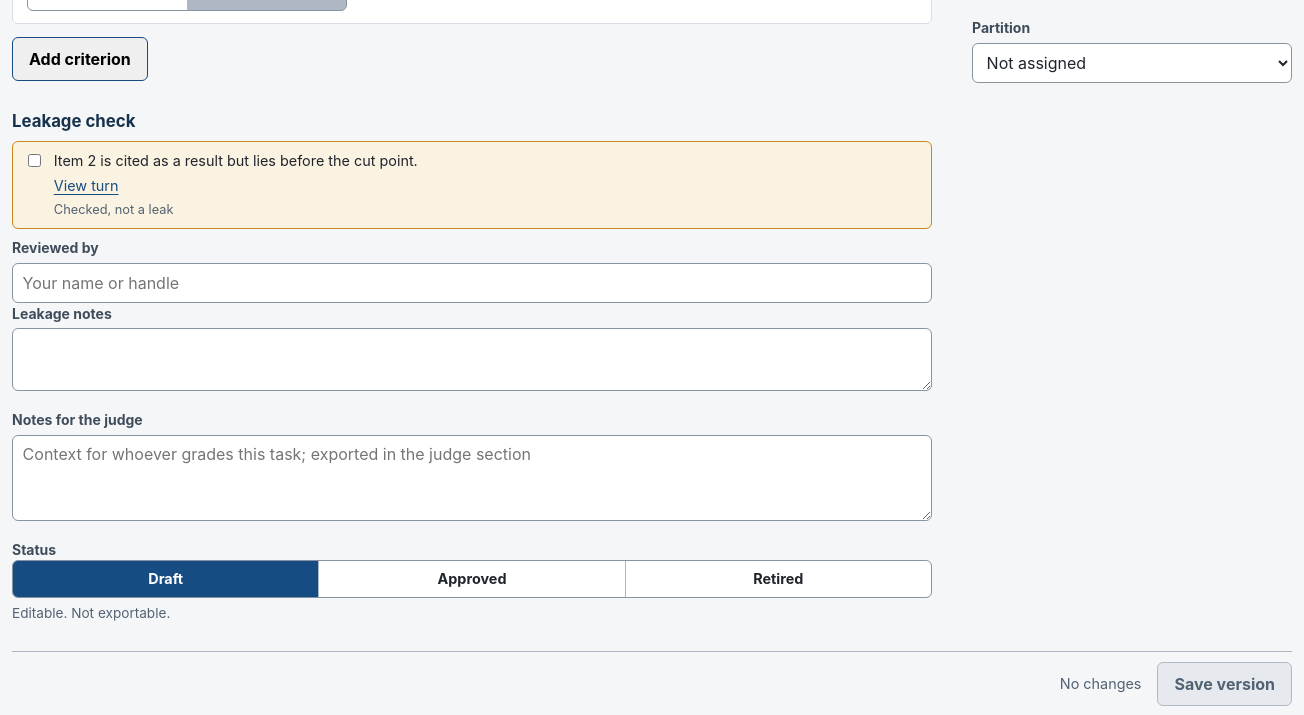
task editor › blocks approval until every flag is accepted and a reviewer is named
(page scrolled)
Click the radio button labelled "Approved" at (472, 579), box [319,561,625,597]
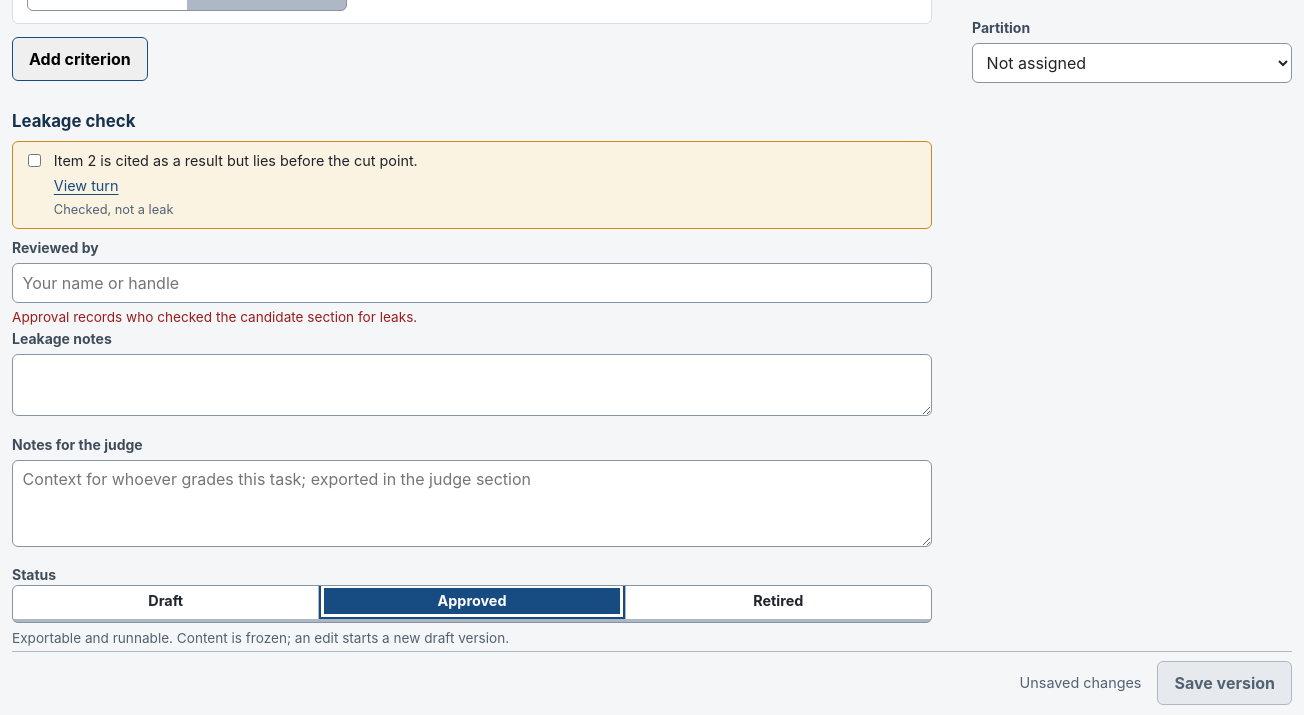
Expected: the button "Save version" is disabled, [1158,661,1292,705]
Result: the text "Approval records who checked the candidate section for leaks." is shown at [12,310,417,326]
Click the checkbox labelled "Item 2 is cited as a result" at (35, 160), box [28,154,41,166]
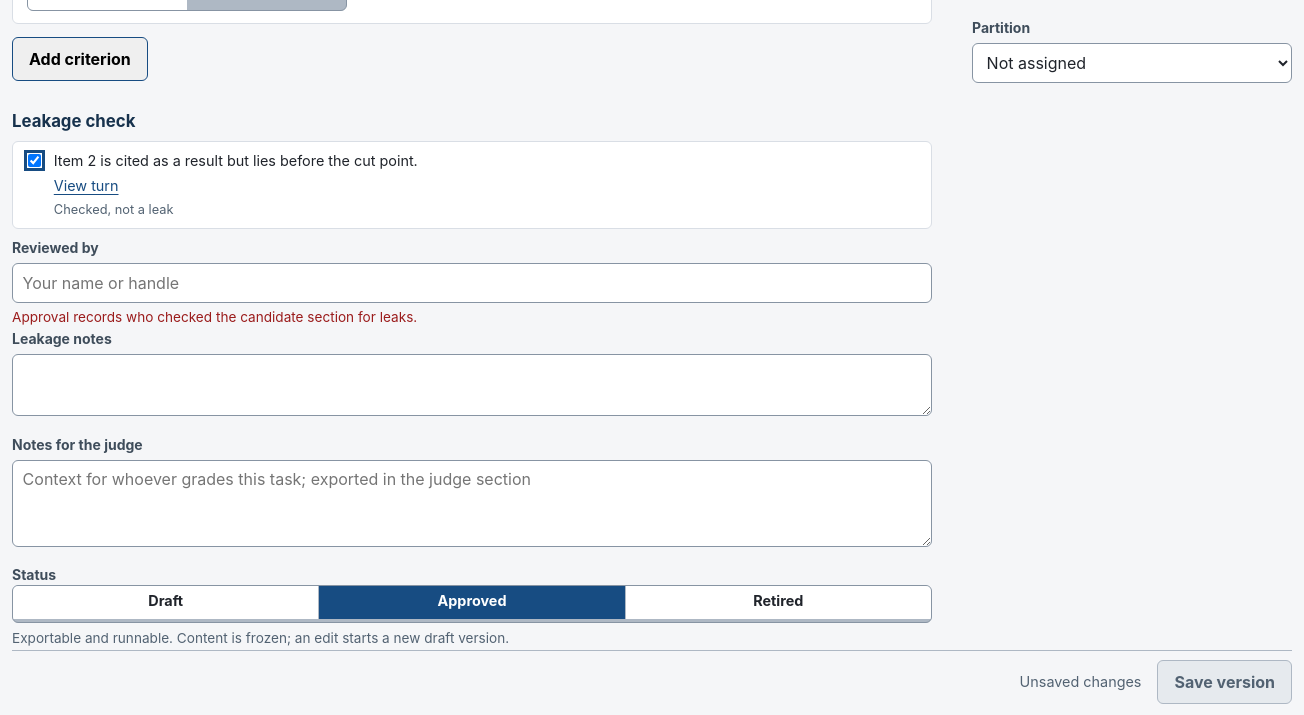
Type "jd" into the field labelled "Reviewed by" at (472, 283), box [12,263,932,303]
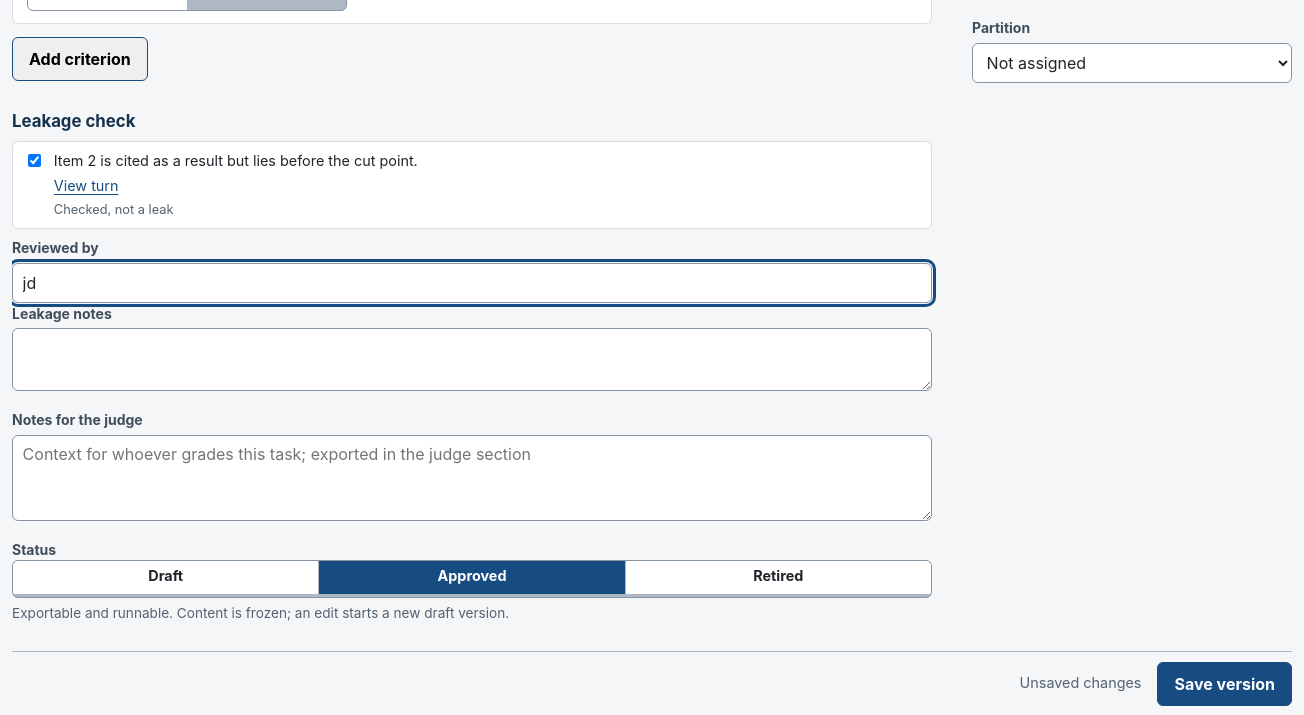
Expected: the text "leakage flag still open" is not shown
Result: the button "Save version" is enabled at [1158,661,1292,705]
